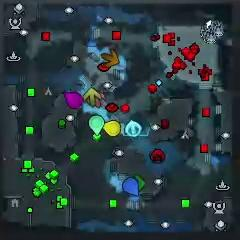p1: (122, 177, 140, 197)
p2: (88, 115, 104, 135)
p3: (63, 91, 83, 109)
p4: (100, 120, 122, 136)
x1: (92, 91, 106, 107)
x2: (83, 88, 101, 107)
x3: (125, 120, 141, 136)
x4: (136, 175, 147, 190)
x5: (102, 49, 120, 68)
